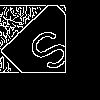S: (25, 25, 81, 82)
